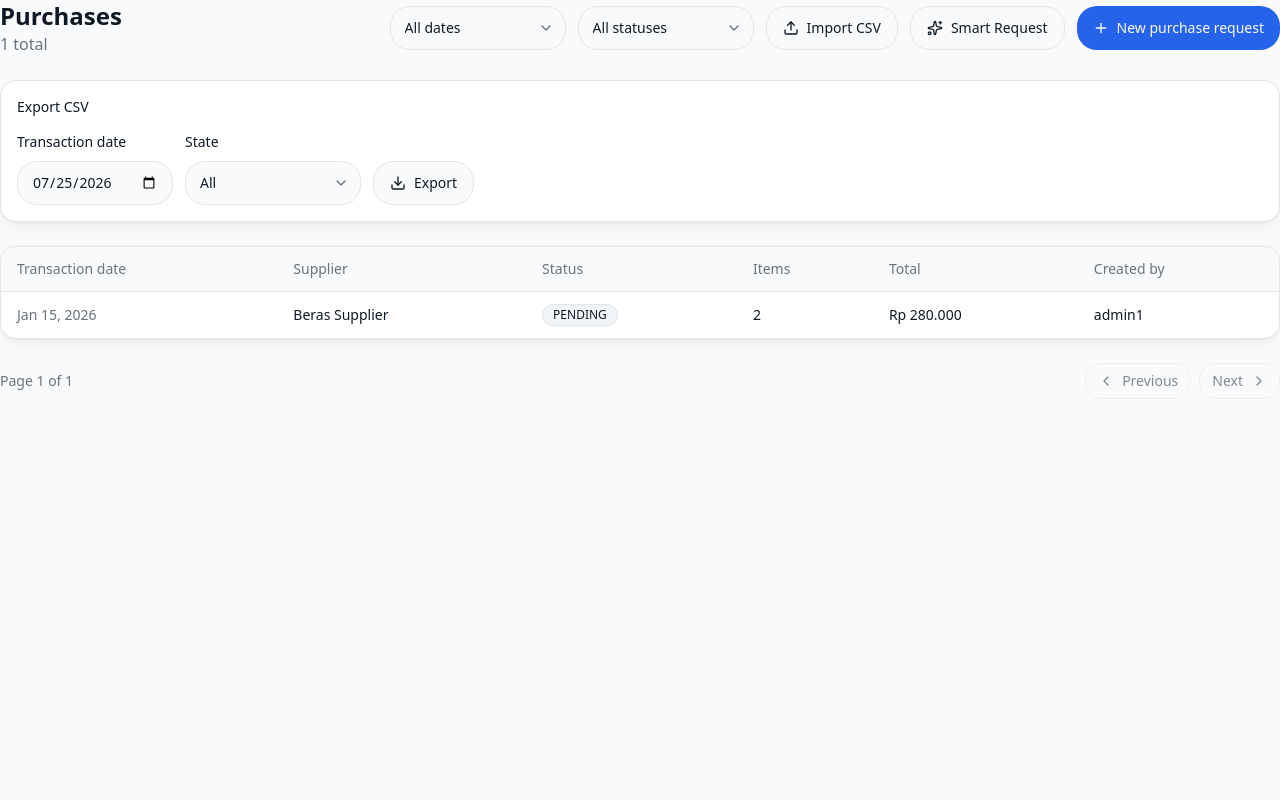
Scenario: AdminPurchasesPage › opens the import dialog when Import CSV is clicked
The width and height of the screenshot is (1280, 800).
Expected: the text "Beras Supplier" is shown, top-left (277, 292), bottom-right (526, 338)
Click the button with test id "open-import-dialog" at (832, 28), box top-left (766, 6), bottom-right (898, 50)
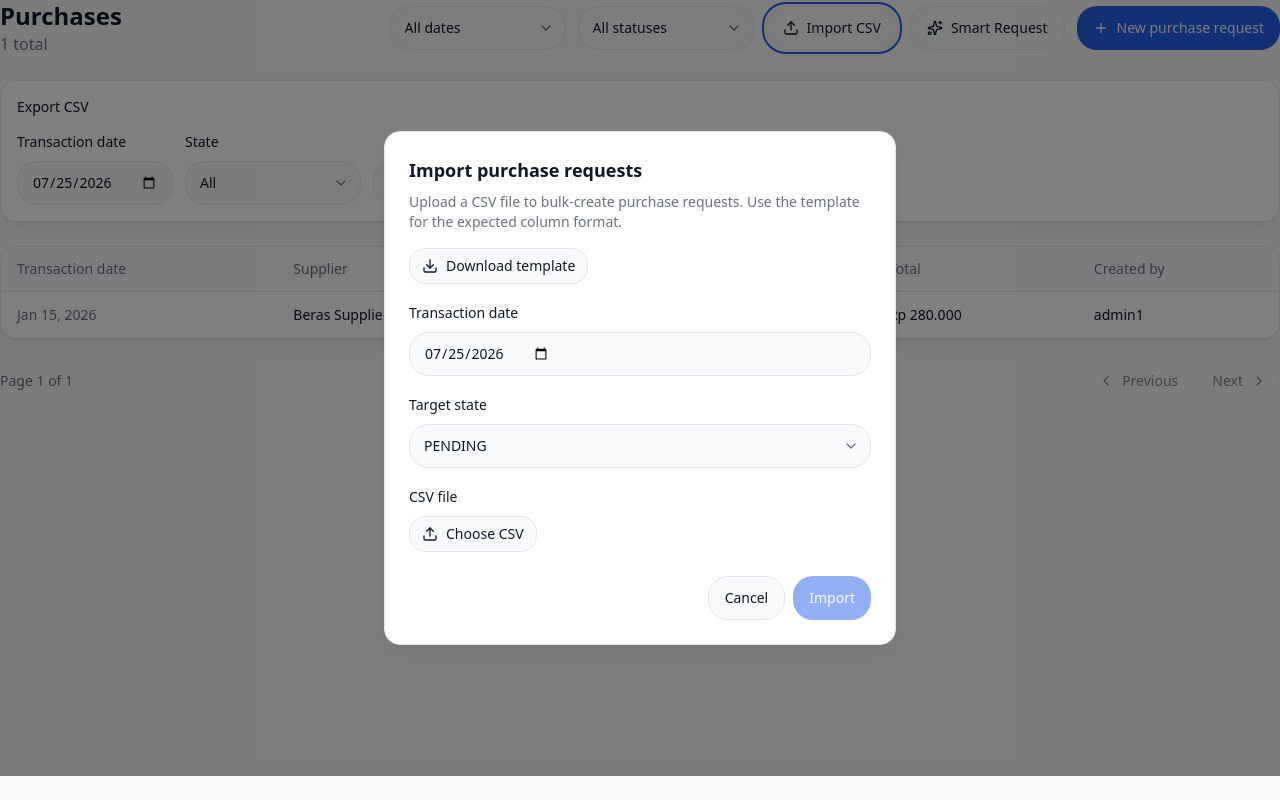
Expected: the element with test id "purchase-import-dialog" is shown, top-left (409, 156), bottom-right (871, 620)
Expected: the button with test id "download-import-template" is shown, top-left (409, 248), bottom-right (588, 284)
